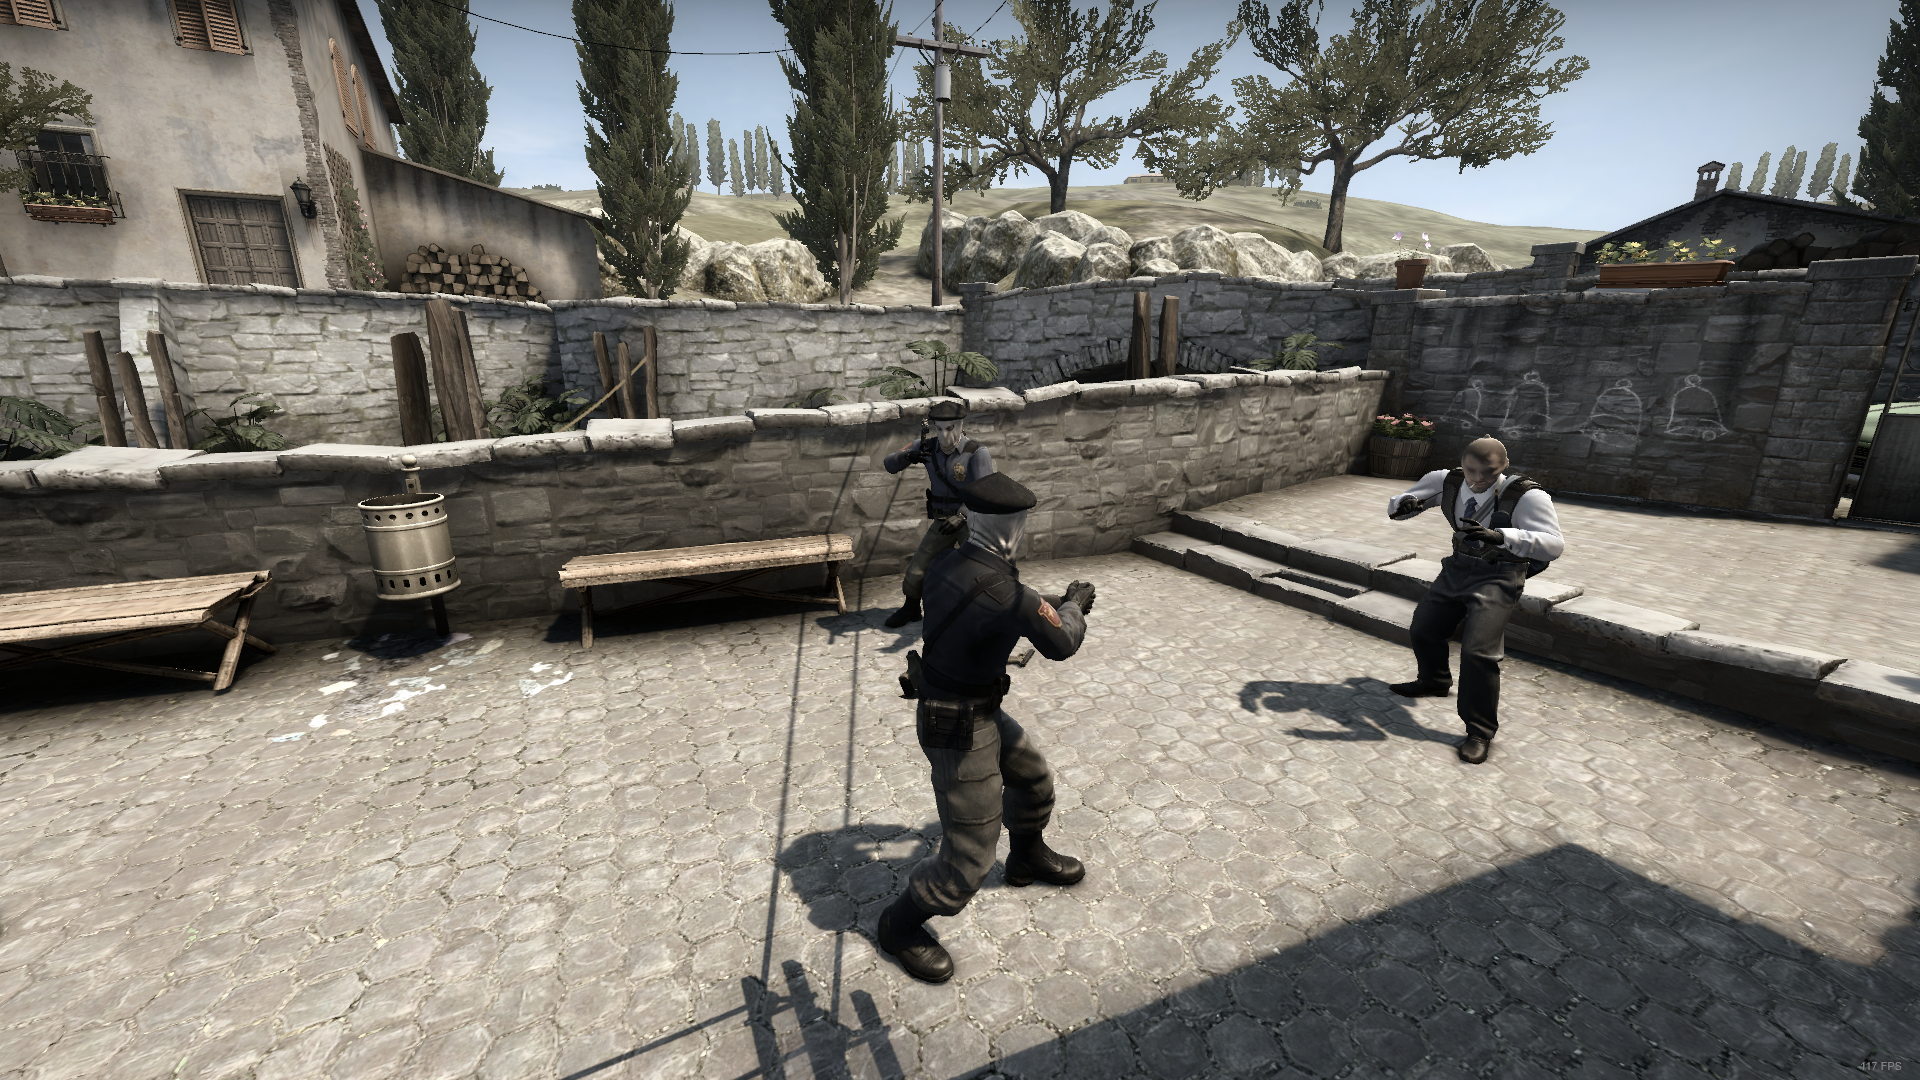t: (877, 469, 1091, 992)
